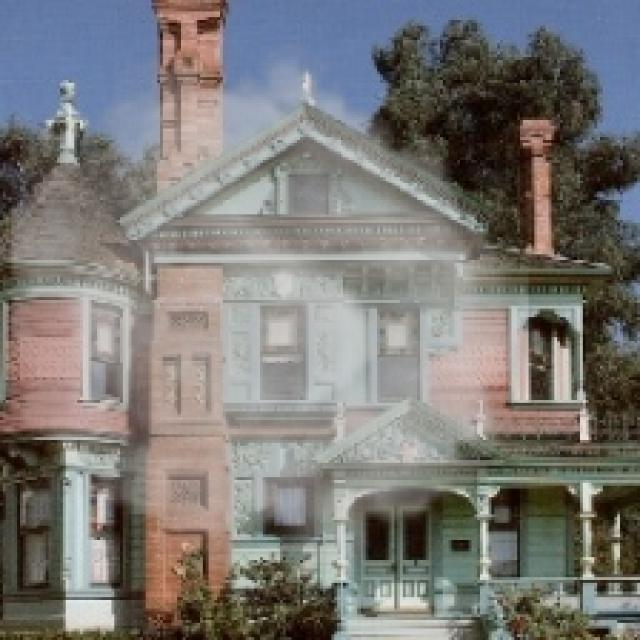Smoke: (11, 37, 528, 583)
